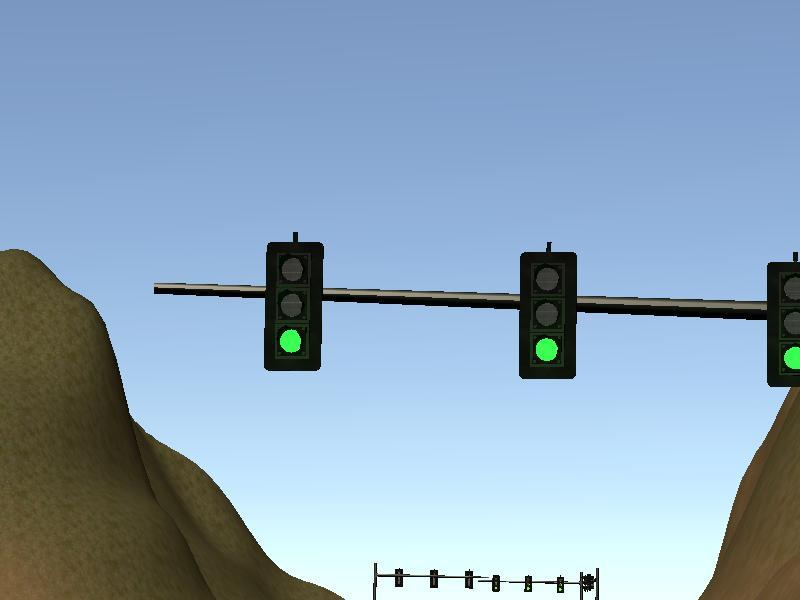Green: (264, 242, 323, 371), (519, 252, 578, 381), (767, 262, 800, 387), (491, 573, 501, 593), (556, 575, 565, 594), (525, 574, 533, 594)
